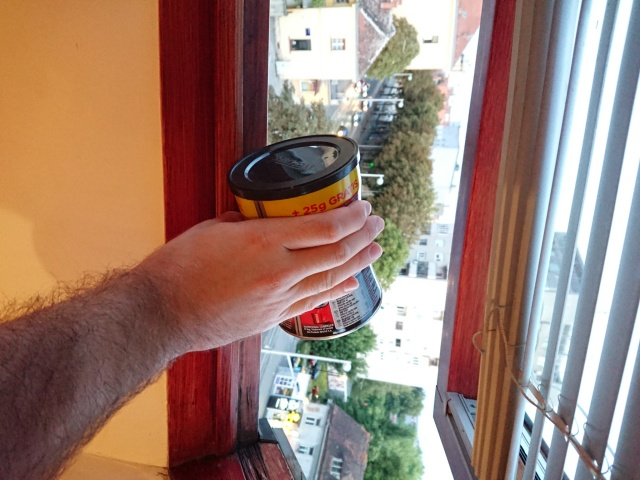Nescafe Classic 225g: (225, 131, 386, 344)
